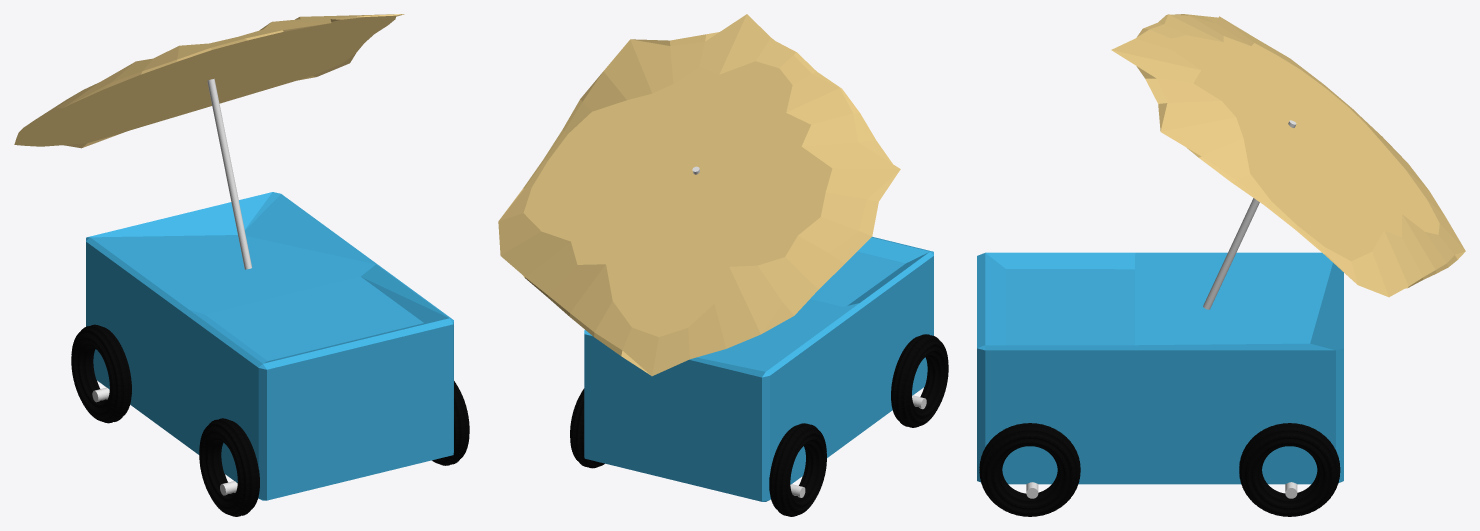
The model's file is cart2.fbx.
3 renders of one model, left to right at view 1: azimuth 30°, elevation 25°; view 2: azimuth 150°, elevation 25°; view 3: azimuth 270°, elevation 25°, orthographic. The views are drawn at different scales.
Visible parts, largest first — view 1: Cylinder; view 2: Cylinder; view 3: Cylinder.
Boxes of the visible parts, bbox=[...] form: Cylinder: bbox=[14, 14, 469, 516]; Cylinder: bbox=[498, 14, 948, 516]; Cylinder: bbox=[977, 14, 1465, 516].
Bounding box in the file's own units: 1645 × 1859 × 1905.
